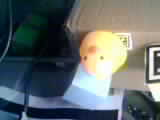duck: (75, 25, 123, 67)
